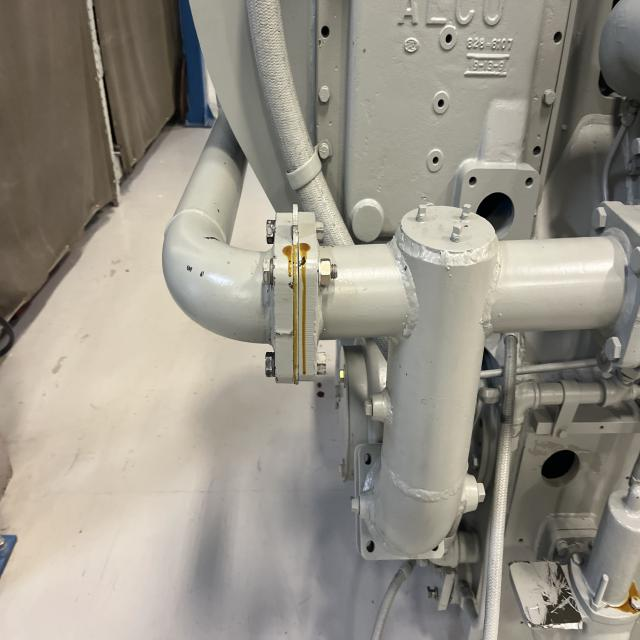Oil Leak: (282, 231, 319, 385), (611, 581, 640, 623)
